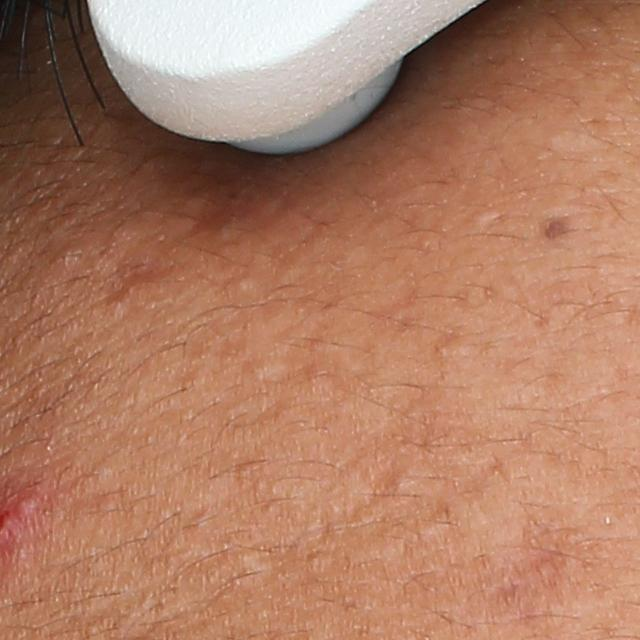comedo: (240, 355, 286, 381), (386, 463, 411, 499), (49, 238, 80, 264), (436, 336, 471, 359), (229, 271, 258, 298), (462, 205, 497, 226)
